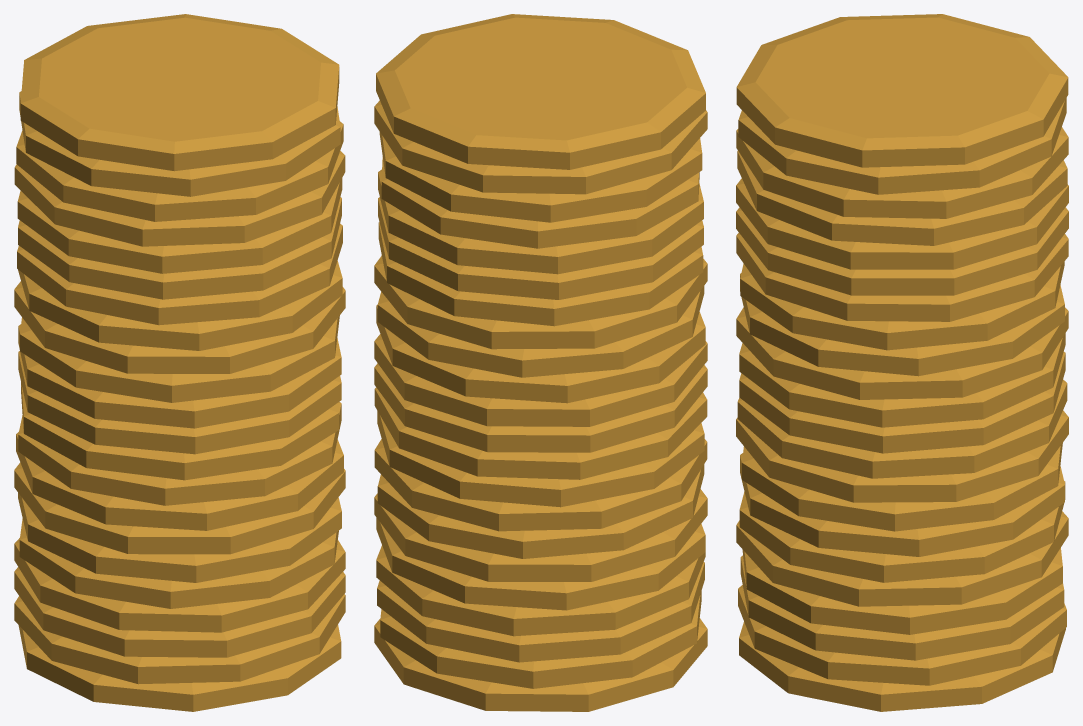
The model's file is GoldStack.fbx.
The picture shows the model from 3 angles, left to right: view 1: azimuth 30°, elevation 25°; view 2: azimuth 150°, elevation 25°; view 3: azimuth 270°, elevation 25°; orthographic projection.
Parts seen in each view (by area): view 1: GoldStack; view 2: GoldStack; view 3: GoldStack.
Boxes of the visible parts, x1,y1,x2,y2 form: GoldStack: (14, 14, 345, 711); GoldStack: (374, 14, 707, 711); GoldStack: (736, 14, 1068, 711).
Bounding box in the file's own units: 6.99 × 13.2 × 7.
